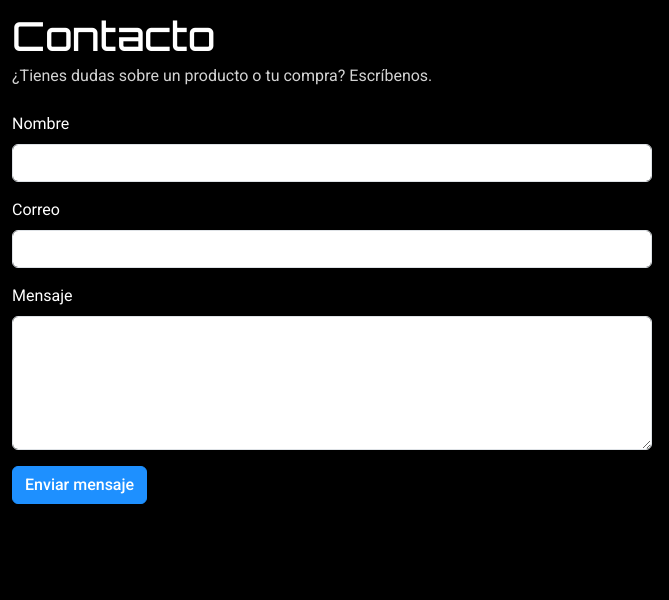
Test: ContactoView › con el formulario vacío muestra los errores y no envía nada
Click the button "Enviar mensaje": (80, 485) [12,466,147,504]
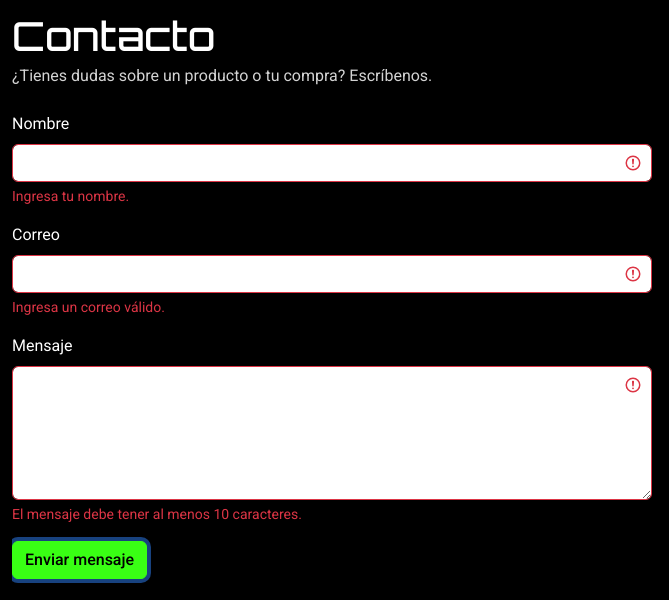
expect the text "Ingresa tu nombre." is shown: met, box [12,188,129,204]
expect the text "Ingresa un correo válido." is shown: met, box [12,299,165,315]
expect the text "El mensaje debe tener al menos 10 caracteres." is shown: met, box [12,506,302,522]
